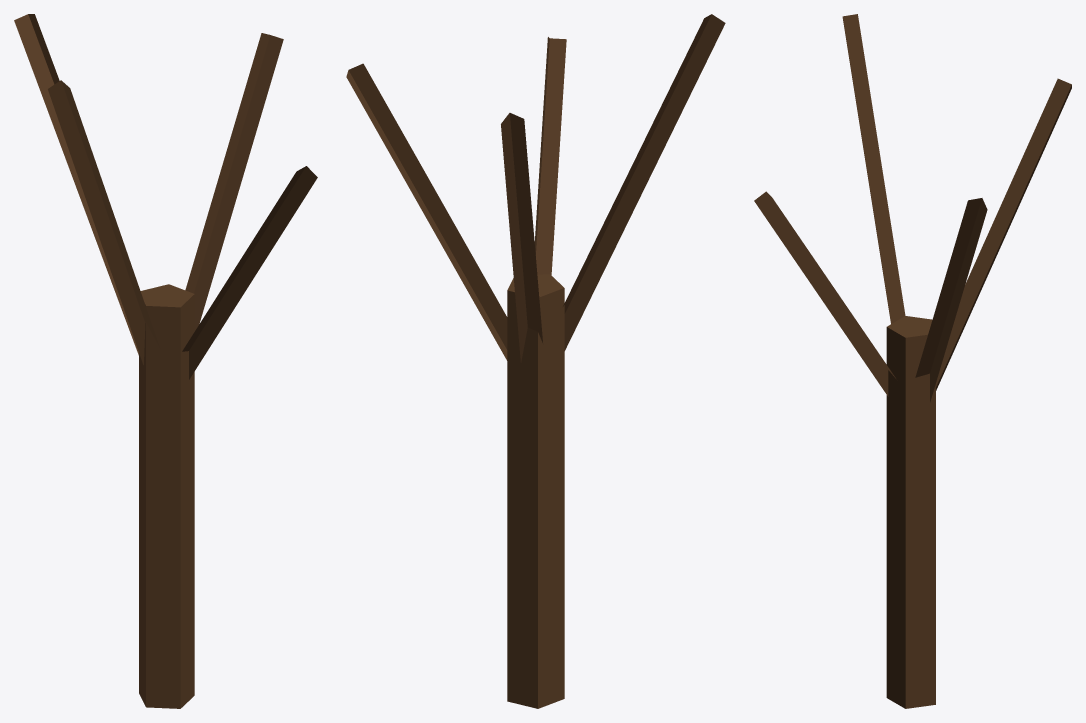
File: land_tree_arctic_bare_snow.glb
3 renders of one model, left to right at view 1: azimuth 30°, elevation 25°; view 2: azimuth 150°, elevation 25°; view 3: azimuth 270°, elevation 25°, orthographic. The views are drawn at different scales.
Bounding box in the file's own units: 3.5 × 7.54 × 3.49.
